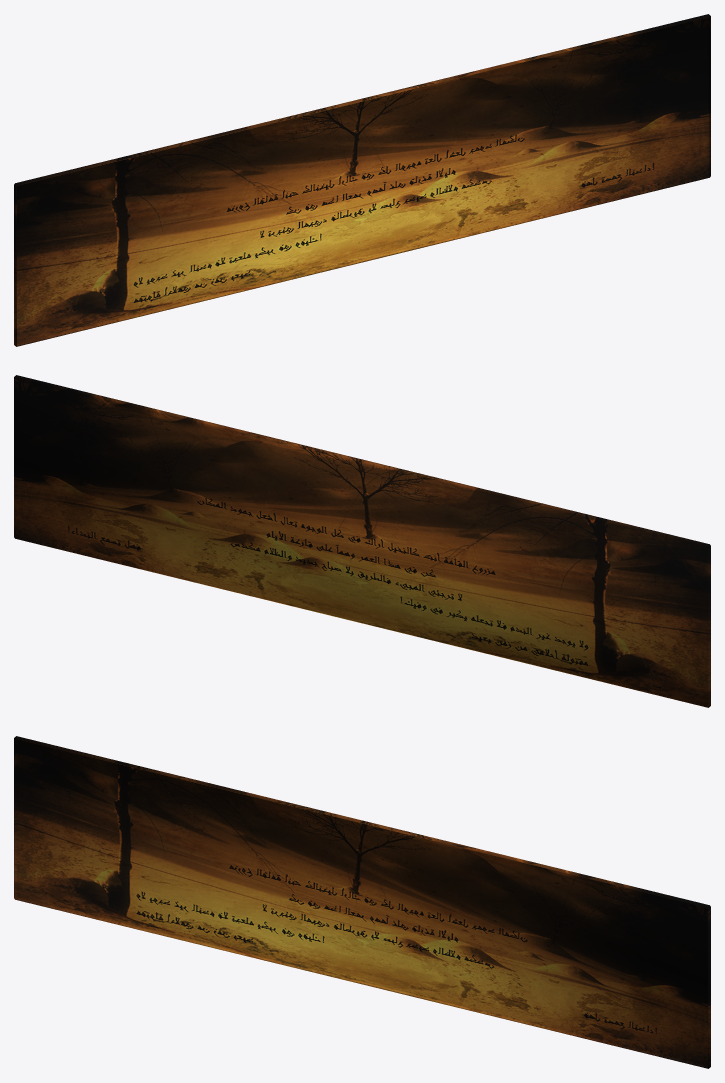
Rendered from backwallclose.obj.
The picture shows the model from 3 angles, top to bottom: view 1: azimuth 30°, elevation 25°; view 2: azimuth 150°, elevation 25°; view 3: azimuth 330°, elevation 25°; orthographic projection.
Parts seen in each view (by area): view 1: Main.001_Combined_Mesh_(root:_scene).002; view 2: Main.001_Combined_Mesh_(root:_scene).002; view 3: Main.001_Combined_Mesh_(root:_scene).002.
Boxes of the visible parts, box(x1,y1,x2,y2) form: Main.001_Combined_Mesh_(root:_scene).002: box(14, 14, 710, 346); Main.001_Combined_Mesh_(root:_scene).002: box(14, 375, 710, 707); Main.001_Combined_Mesh_(root:_scene).002: box(14, 736, 710, 1068).
Size of the model in its own units: 6.21 by 1.39 by 0.0409.
1 material, 1 textured.
